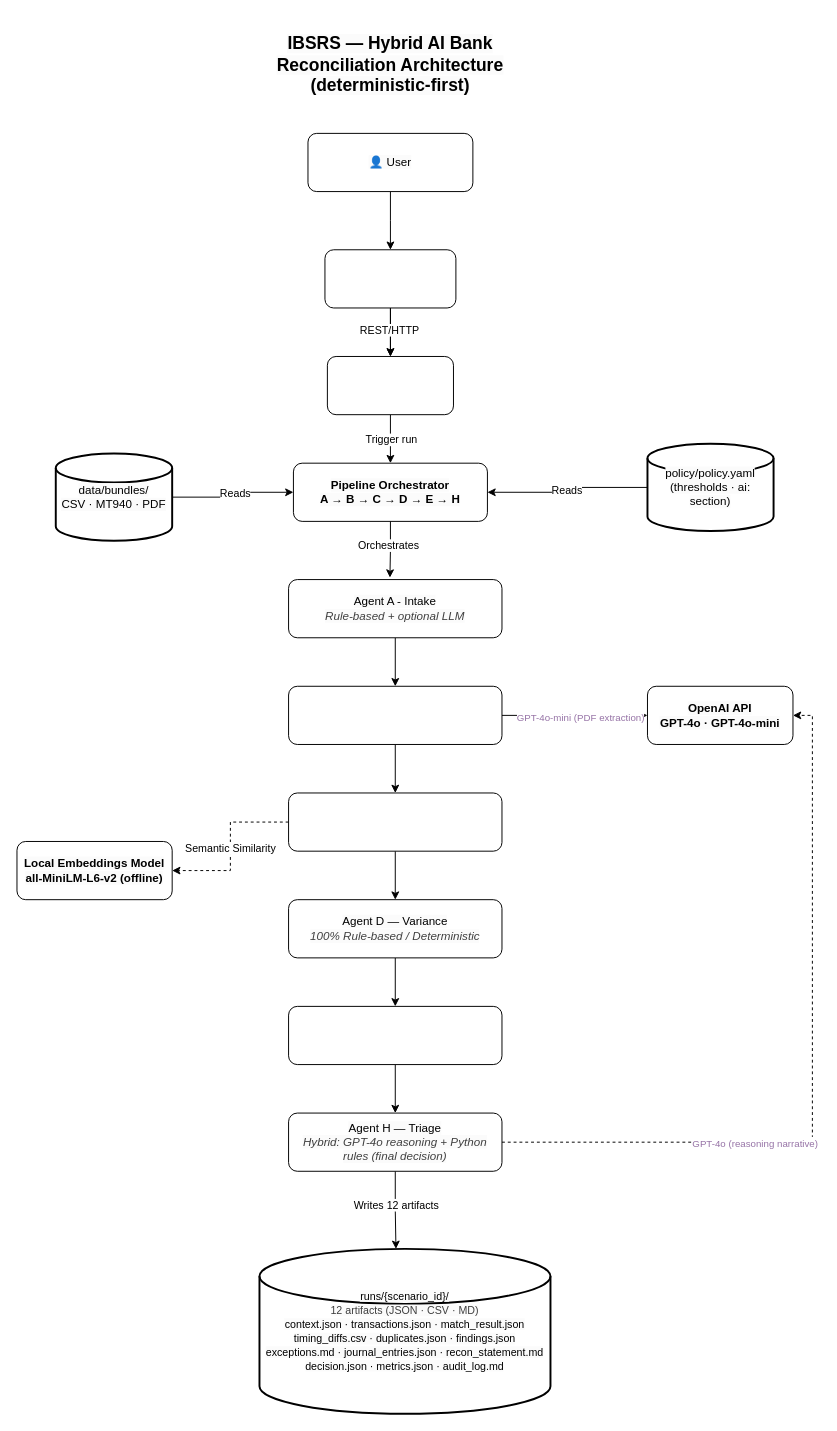
This 837x1431 diagram has some shape labels left out. The centre of each missing label's shape, as x and y in pixels:
"Agent B — Extraction Hybrid: Parsers + GPT-4o-mini" belongs at pixel 395 714.
"Agent C — Matching Hybrid: Rules + SentenceTransformers" belongs at pixel 395 821.
"Agent E — Duplicates 100% Rule-based / Deterministic" belongs at pixel 395 1035.
"FastAPI Backend" belongs at pixel 389 385.
"Streamlit UI" belongs at pixel 390 278.
